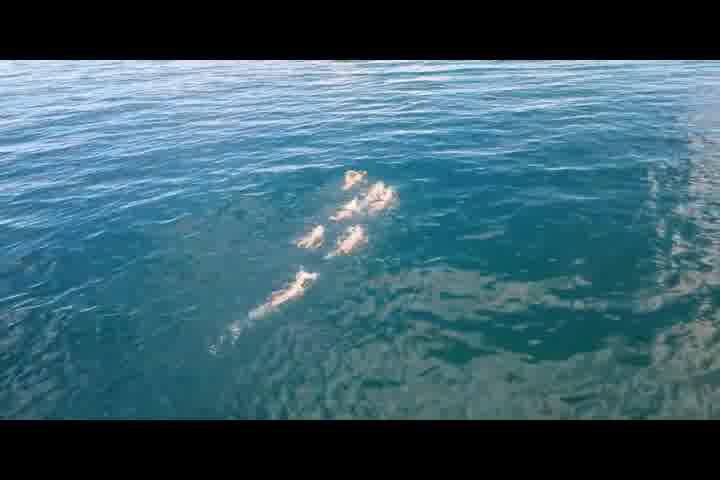swimmer: (270, 266, 316, 308), (342, 228, 362, 256)
